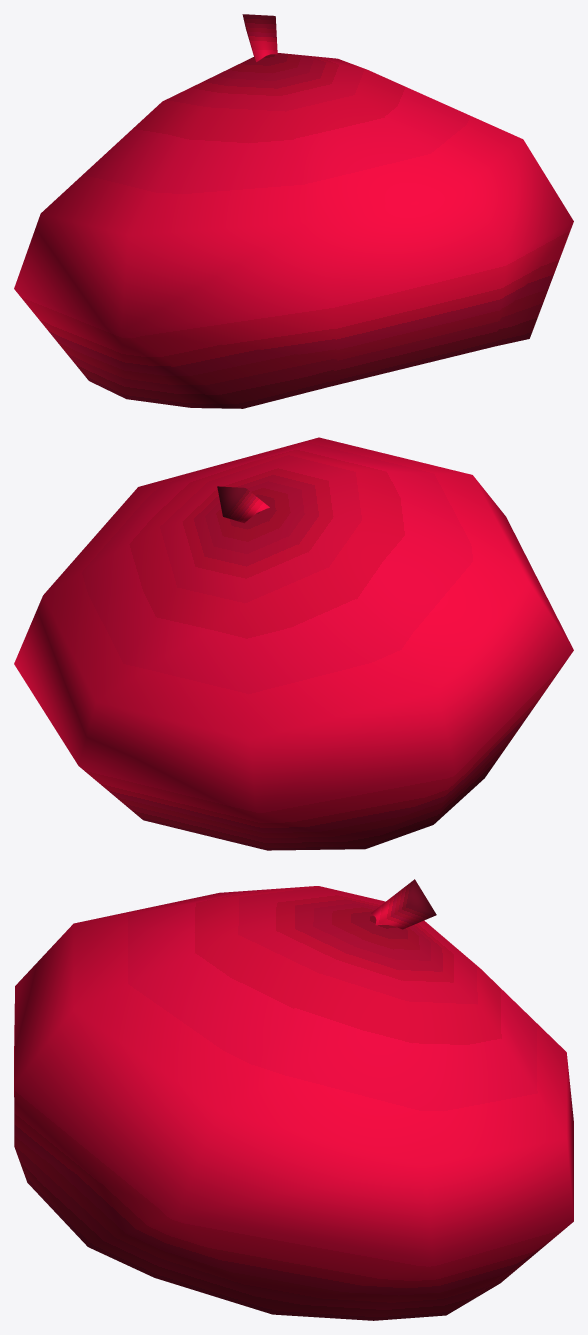
3 views of the same model, one above another, from view 1: azimuth 30°, elevation 25°; view 2: azimuth 150°, elevation 25°; view 3: azimuth 270°, elevation 25° (orthographic). The views are drawn at different scales.
Parts seen in each view (by area): view 1: code_head82; view 2: code_head82; view 3: code_head82.
Boxes of the visible parts, x1,y1,x2,y2 form: code_head82: (14, 14, 573, 408); code_head82: (14, 437, 573, 850); code_head82: (14, 879, 573, 1320).
Size of the model in its own units: 0.7825 by 0.5349 by 0.738.
Materials: 1 (1 with a texture image).
